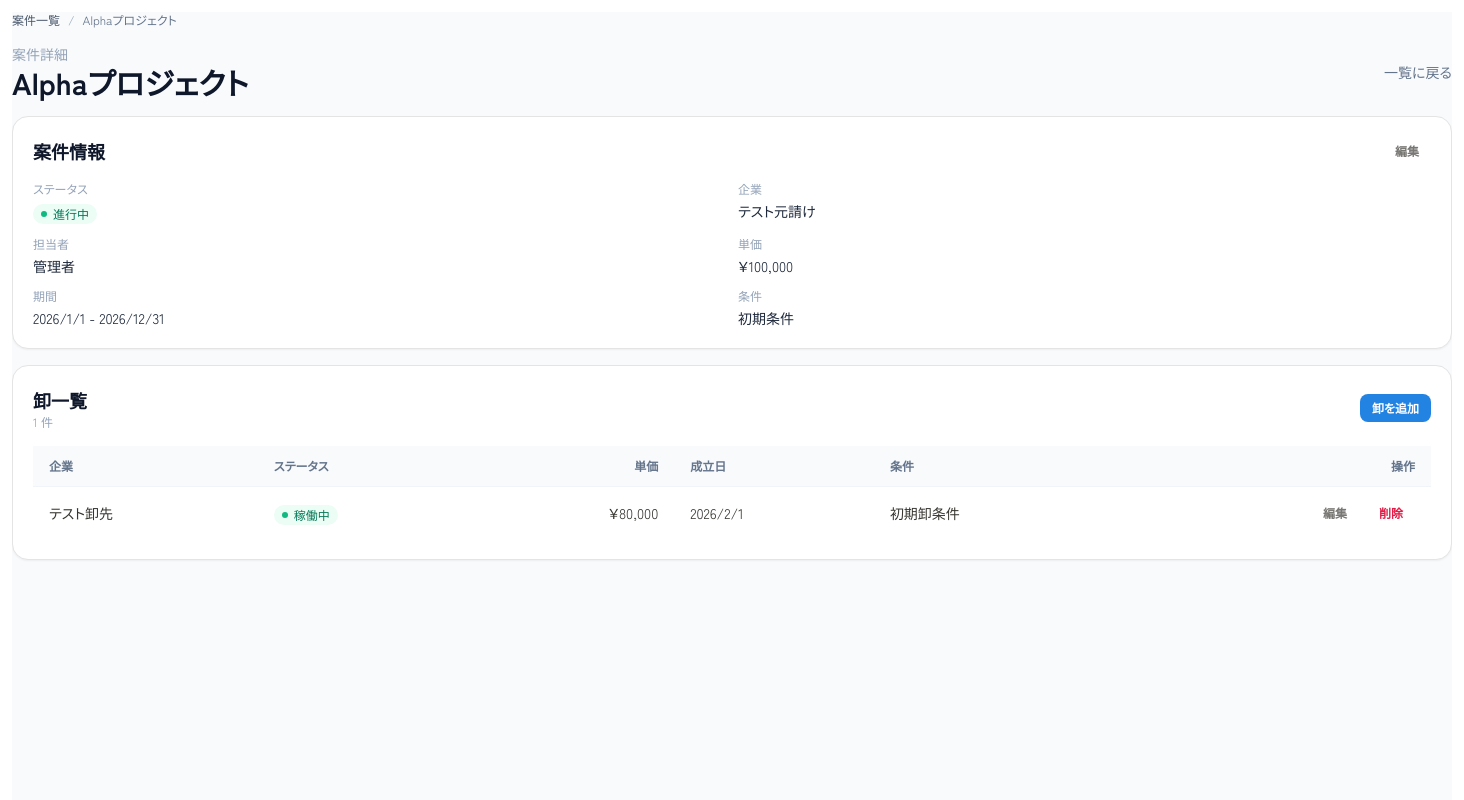
案件詳細ページ › 案件編集で案件名を空にして保存するとエラー表示し更新APIを呼ばない
The image size is (1464, 800).
Expected: the heading "Alphaプロジェクト" is shown, x1=12 y1=64 x2=248 y2=100
Click the button "編集" in the row of "案件情報". click: (1407, 151)
box: x1=1383 y1=137 x2=1431 y2=165
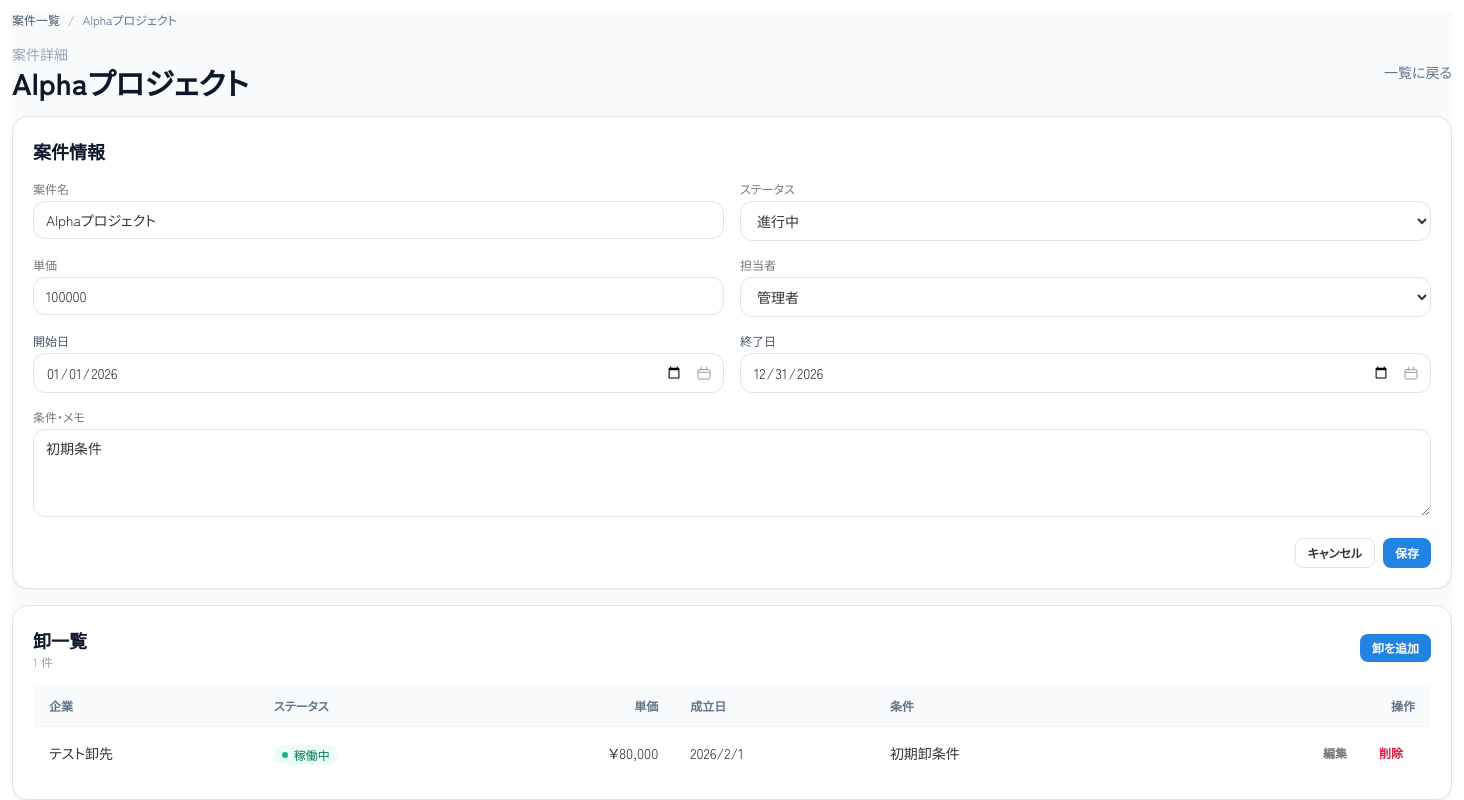
Clear the field labelled "案件名". click: (378, 220)
box: x1=33 y1=201 x2=724 y2=239
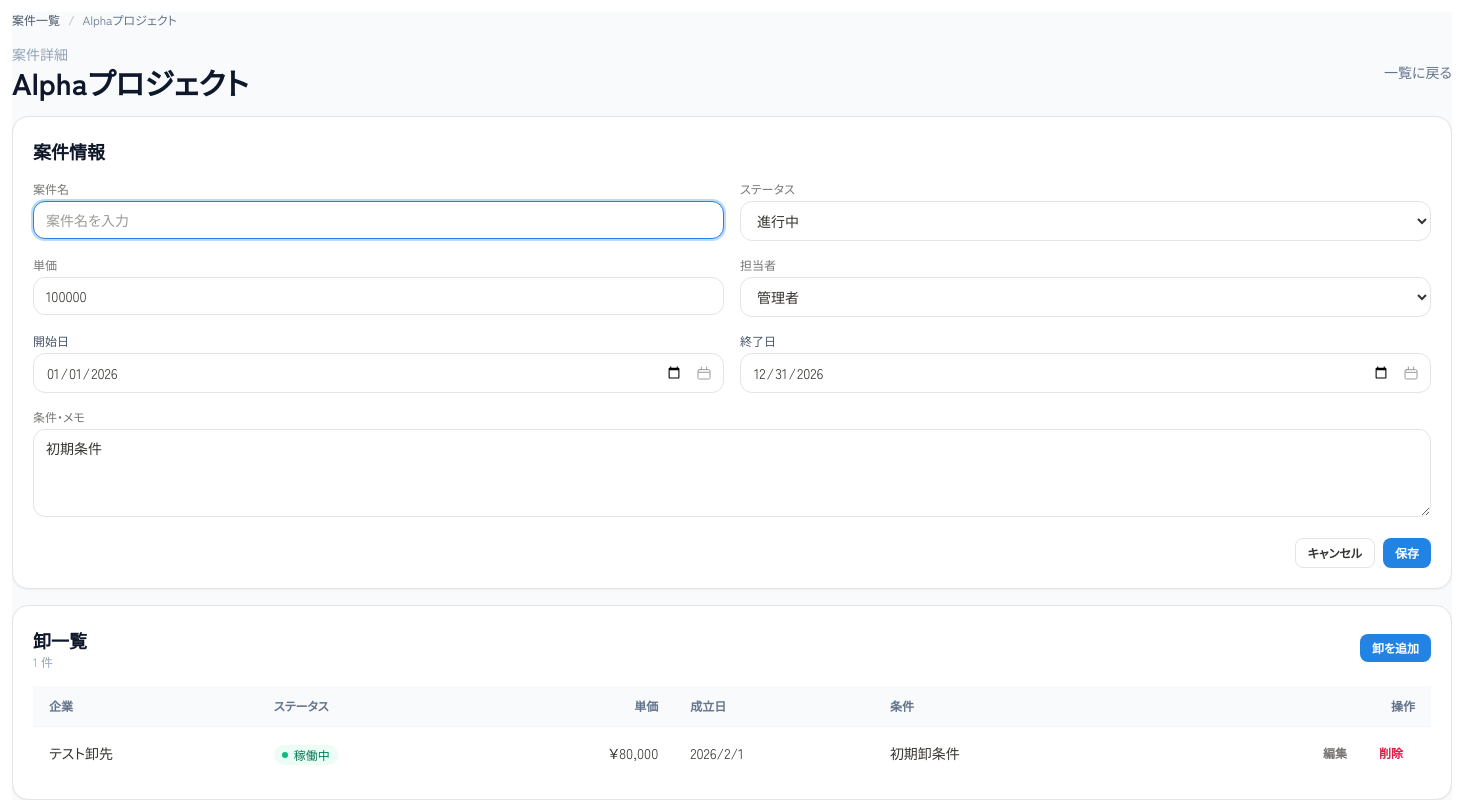
Click the button "保存". click: (1407, 553)
box: x1=1383 y1=538 x2=1431 y2=568
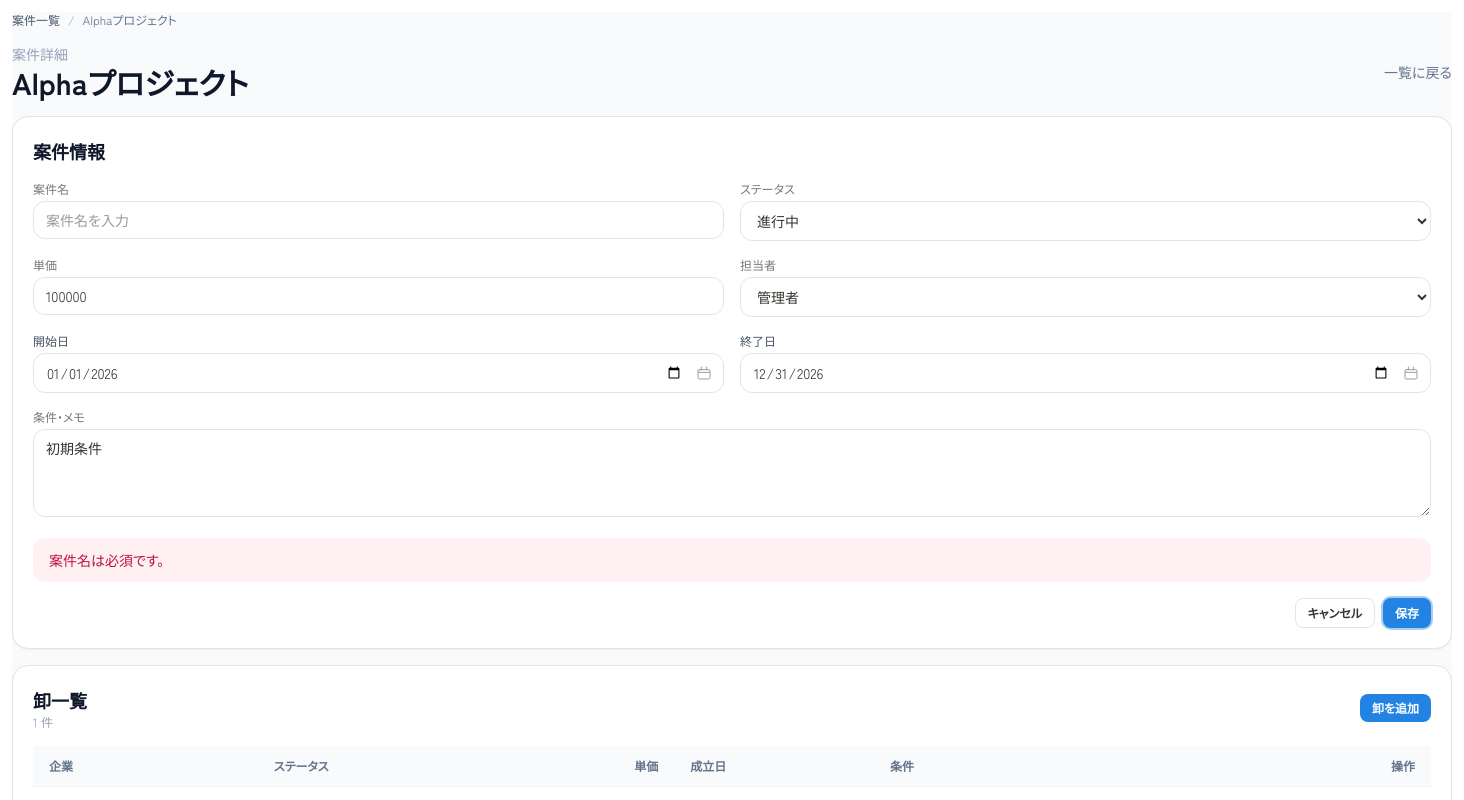
Expected: the text "案件名は必須です。" is shown, x1=49 y1=550 x2=164 y2=570
